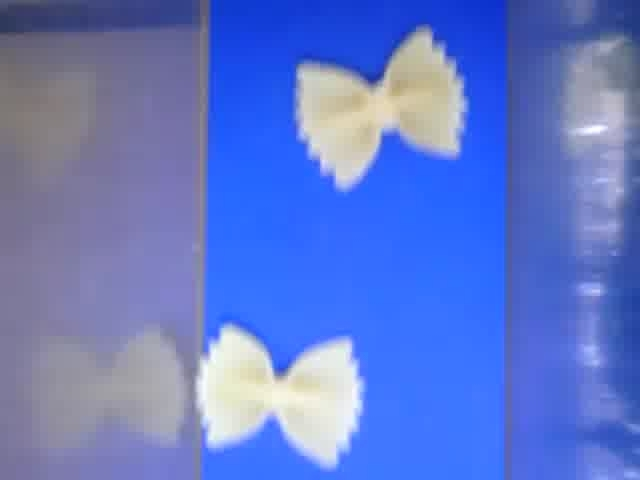farfalle: (294, 21, 467, 193), (198, 319, 365, 469)
